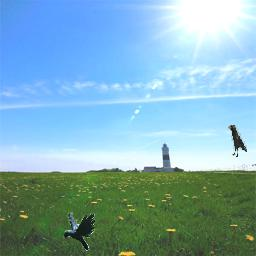Crow: (64, 211, 95, 251), (228, 125, 247, 157)
